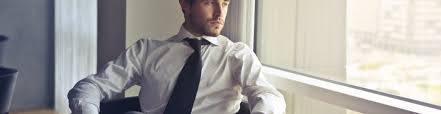F_shirt: (67, 31, 300, 114)
F_tie: (173, 35, 208, 113)
